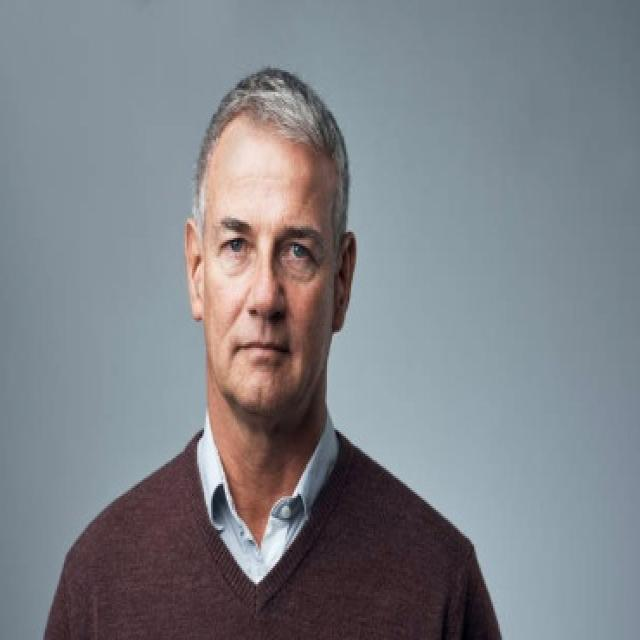adult: (37, 63, 508, 640)
